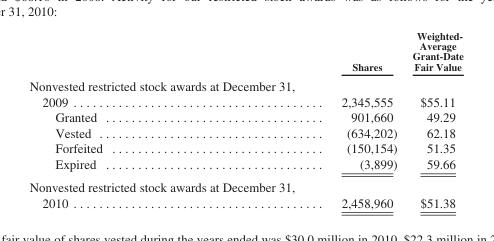table: (28, 29, 462, 209)
table column: (28, 29, 317, 209), (317, 29, 404, 209), (404, 29, 462, 209)
table column header: (28, 29, 462, 75)
table row: (28, 29, 462, 75), (28, 75, 462, 109), (28, 175, 462, 209), (28, 155, 462, 175), (28, 124, 462, 140), (28, 109, 462, 124), (28, 140, 462, 155)
